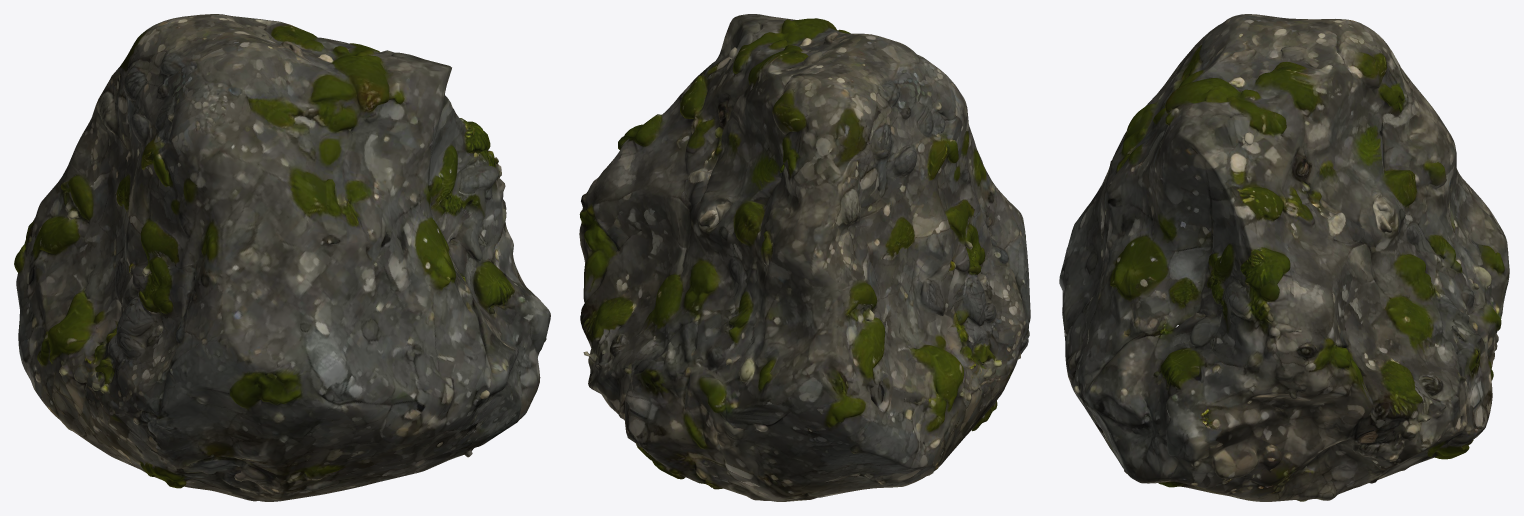
Rendered from nature-rock-large.glb.
3 views of the same model, side by side, from view 1: azimuth 30°, elevation 25°; view 2: azimuth 150°, elevation 25°; view 3: azimuth 270°, elevation 25° (orthographic). The views are drawn at different scales.
Parts seen in each view (by area): view 1: tripo_node_e3408d13-bae8-4f50-aafd-f313ad160ccc; view 2: tripo_node_e3408d13-bae8-4f50-aafd-f313ad160ccc; view 3: tripo_node_e3408d13-bae8-4f50-aafd-f313ad160ccc.
Boxes of the visible parts, x1,y1,x2,y2 form: tripo_node_e3408d13-bae8-4f50-aafd-f313ad160ccc: [14, 14, 550, 501]; tripo_node_e3408d13-bae8-4f50-aafd-f313ad160ccc: [579, 14, 1030, 501]; tripo_node_e3408d13-bae8-4f50-aafd-f313ad160ccc: [1059, 14, 1509, 501].
Bounding box in the file's own units: 3.03 × 3 × 2.97.
Materials: 1 (1 with a texture image).
